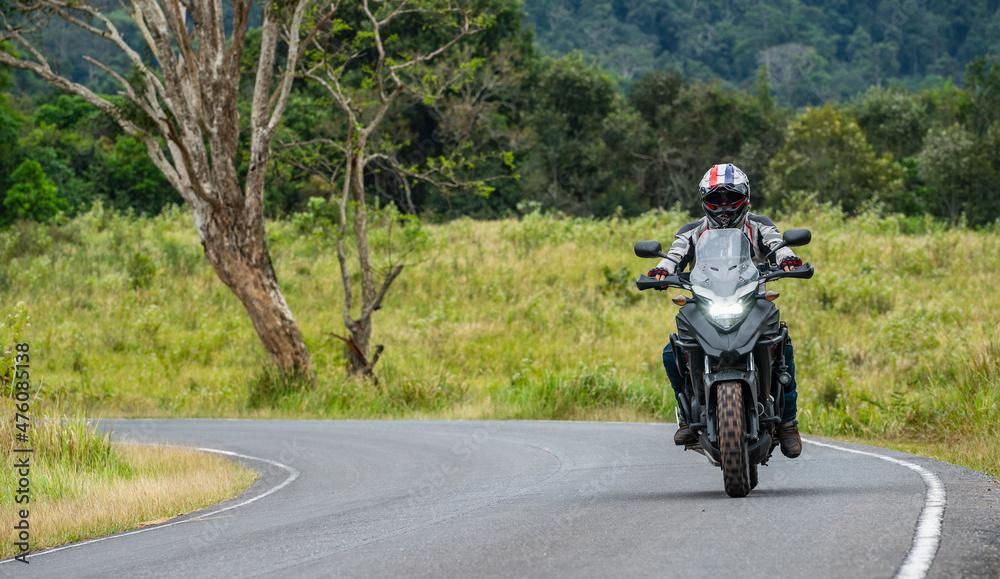helmet: (698, 162, 751, 236)
